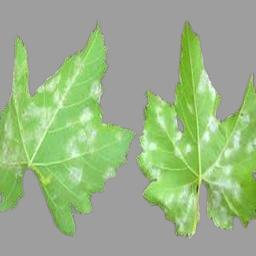Powdery-Mildew: (41, 50, 93, 108), (65, 108, 100, 158), (1, 118, 28, 164), (26, 105, 56, 145), (191, 70, 215, 103), (100, 164, 117, 181), (87, 80, 104, 96), (67, 168, 84, 184)
